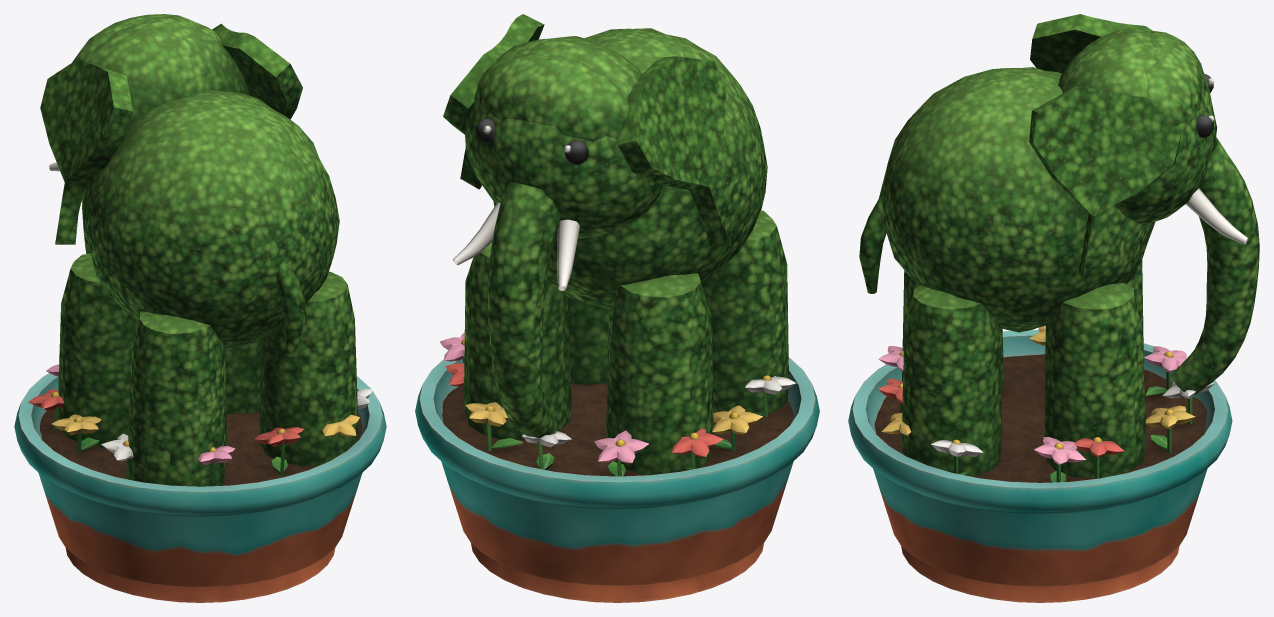
Rendered from topiary-animal.fbx.
3 views of the same model, side by side, from view 1: azimuth 30°, elevation 25°; view 2: azimuth 150°, elevation 25°; view 3: azimuth 270°, elevation 25° (orthographic). The views are drawn at different scales.
Visible parts, largest first — view 1: Anim Sway, Body; view 2: Anim Sway, Body; view 3: Anim Sway, Body.
Boxes of the visible parts, left/top/right/bottom form: Anim Sway: left=40, top=14, right=358, bottom=486; Body: left=14, top=364, right=386, bottom=602; Anim Sway: left=443, top=14, right=788, bottom=475; Body: left=415, top=333, right=819, bottom=602; Anim Sway: left=859, top=14, right=1259, bottom=478; Body: left=848, top=326, right=1232, bottom=602.
Bounding box in the file's own units: 0.88 × 1.29 × 0.9426.
